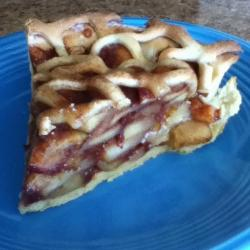apple_pie: (13, 13, 242, 212)
